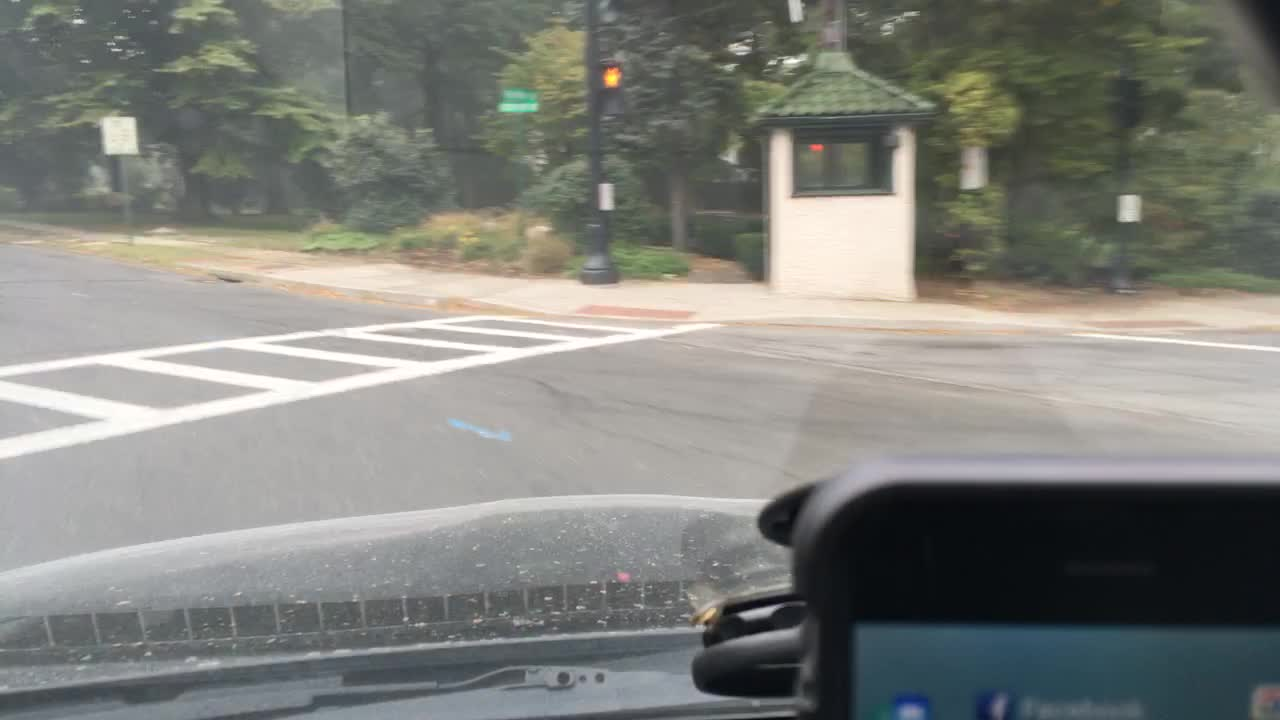traffic light: (601, 63, 621, 89)
traffic sign: (100, 114, 136, 158), (959, 147, 987, 187), (496, 87, 538, 111)
